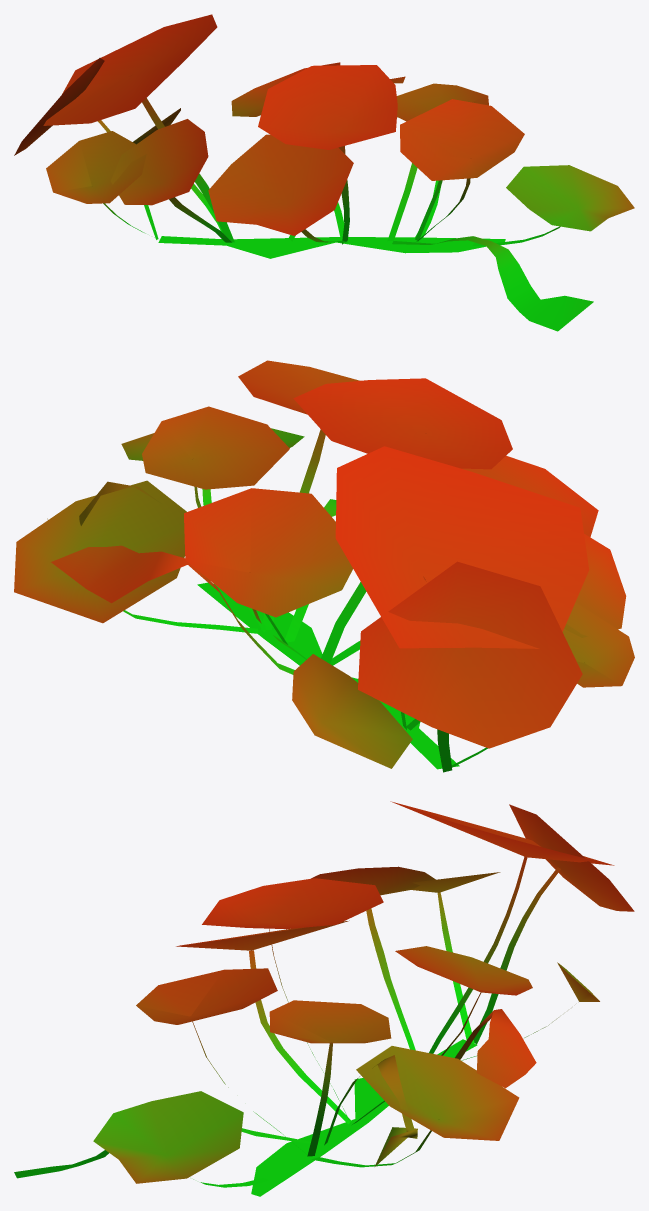
File: Var7_LOD0.fbx
The picture shows the model from 3 angles, top to bottom: view 1: azimuth 30°, elevation 25°; view 2: azimuth 150°, elevation 25°; view 3: azimuth 270°, elevation 25°; orthographic projection. The views are drawn at different scales.
Parts seen in each view (by area): view 1: _2a2b_Var7_LOD0; view 2: _2a2b_Var7_LOD0; view 3: _2a2b_Var7_LOD0.
Part boxes in pixels (left/top/right/bottom): _2a2b_Var7_LOD0: left=14, top=14, right=634, bottom=331; _2a2b_Var7_LOD0: left=14, top=360, right=634, bottom=772; _2a2b_Var7_LOD0: left=14, top=801, right=634, bottom=1196.
Bounding box in the file's own units: 34.86 × 15.49 × 33.57.
